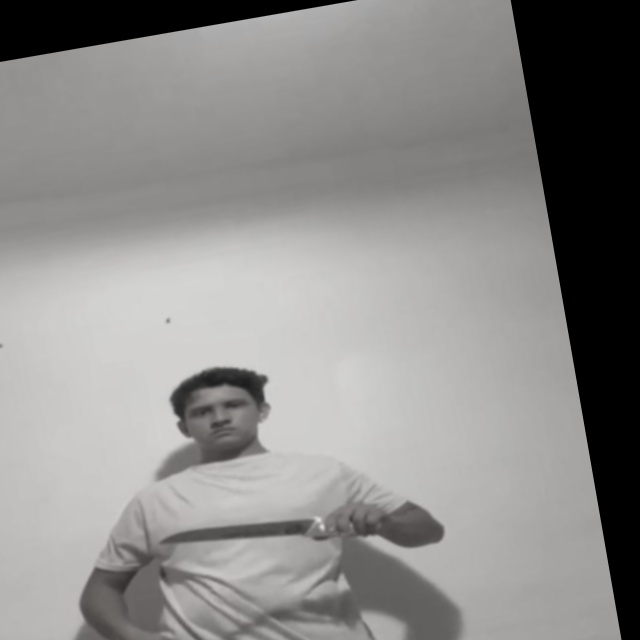Sharp-Object: (155, 507, 315, 560)
